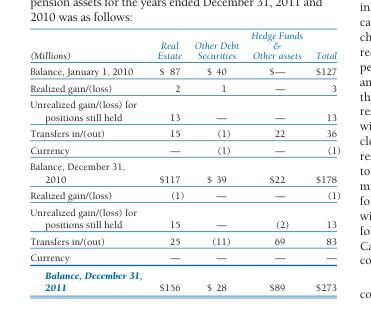table: (29, 29, 339, 292)
table column: (29, 29, 149, 292), (244, 29, 308, 292), (188, 29, 244, 292), (149, 29, 188, 292), (308, 29, 339, 292)
table column header: (29, 29, 339, 63)
table row: (29, 29, 339, 63), (29, 157, 339, 187), (29, 96, 339, 125), (29, 203, 339, 232), (29, 265, 339, 292), (29, 79, 339, 96), (29, 248, 339, 265), (29, 63, 339, 79), (29, 125, 339, 141), (29, 141, 339, 157), (29, 187, 339, 203), (29, 232, 339, 248)
